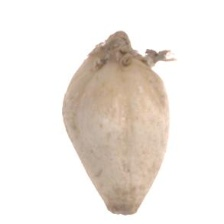L1: (89, 30, 142, 62), (103, 200, 142, 215)
L2: (62, 31, 169, 215)
